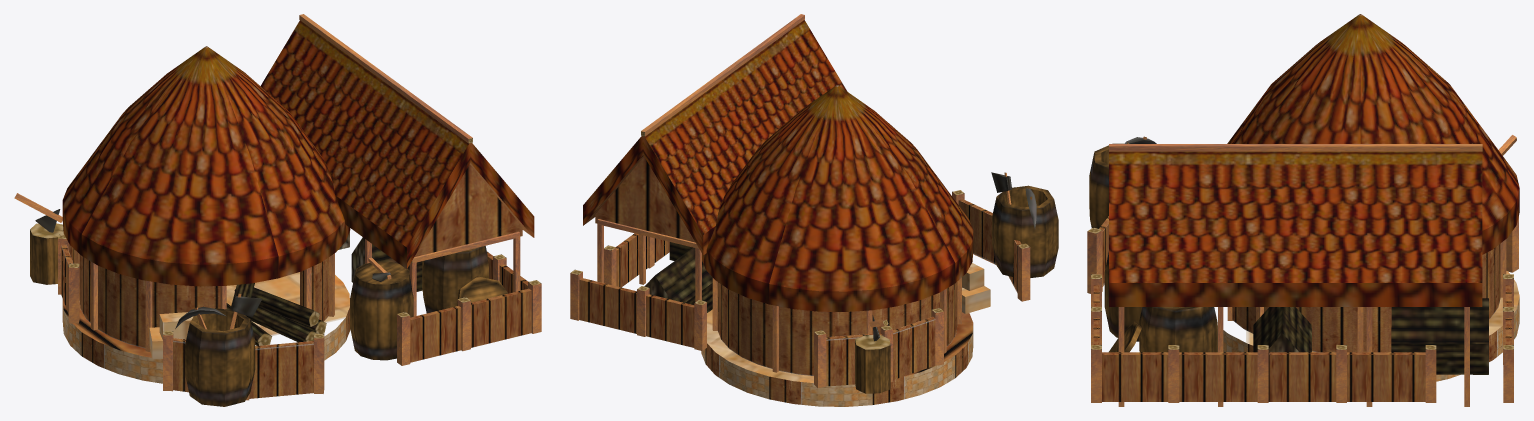
Rendered from storehouse.dae.
3 views of the same model, side by side, from view 1: azimuth 30°, elevation 25°; view 2: azimuth 150°, elevation 25°; view 3: azimuth 270°, elevation 25° (orthographic). The views are drawn at different scales.
Visible parts, largest first — view 1: storehouse; view 2: storehouse; view 3: storehouse.
Part boxes in pixels (bbox=[...]): storehouse: bbox=[14, 14, 541, 406]; storehouse: bbox=[570, 14, 1058, 406]; storehouse: bbox=[1087, 14, 1519, 406].
Bounding box in the file's own units: 14 × 13.99 × 11.02.
